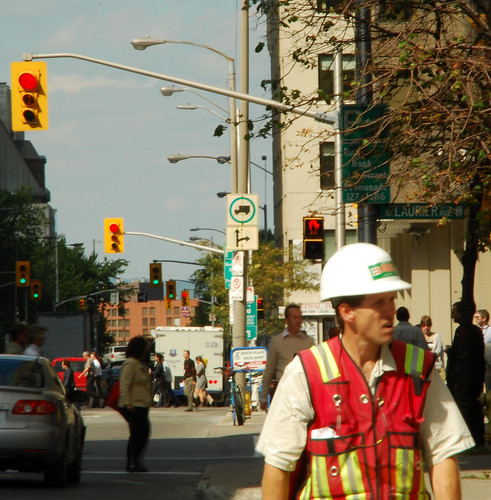person hardhat: (253, 237, 474, 500)
